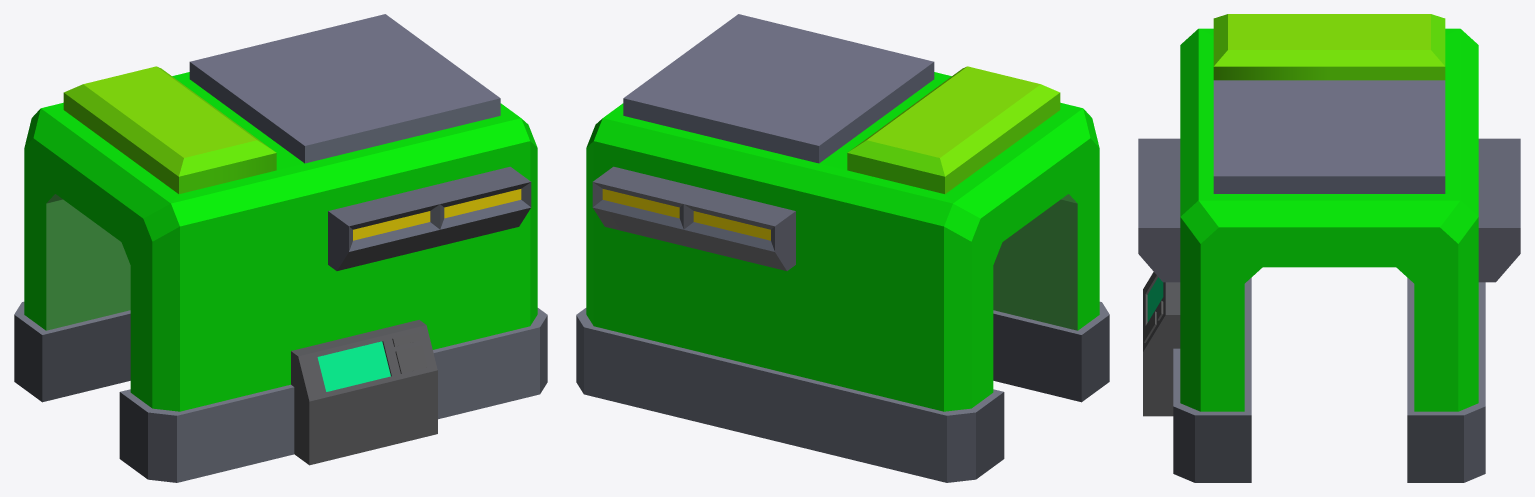
The model's file is NF_Machine_00_C.fbx.
3 renders of one model, left to right at view 1: azimuth 30°, elevation 25°; view 2: azimuth 150°, elevation 25°; view 3: azimuth 270°, elevation 25°, orthographic.
Visible parts, largest first — view 1: NF_Machine_00_C; view 2: NF_Machine_00_C; view 3: NF_Machine_00_C.
Boxes of the visible parts, bbox=[...] form: NF_Machine_00_C: bbox=[14, 14, 547, 482]; NF_Machine_00_C: bbox=[576, 14, 1109, 482]; NF_Machine_00_C: bbox=[1138, 14, 1520, 482].
Size of the model in its own units: 3.11 by 2.21 by 2.56.
Materials: 1 (1 with a texture image).
